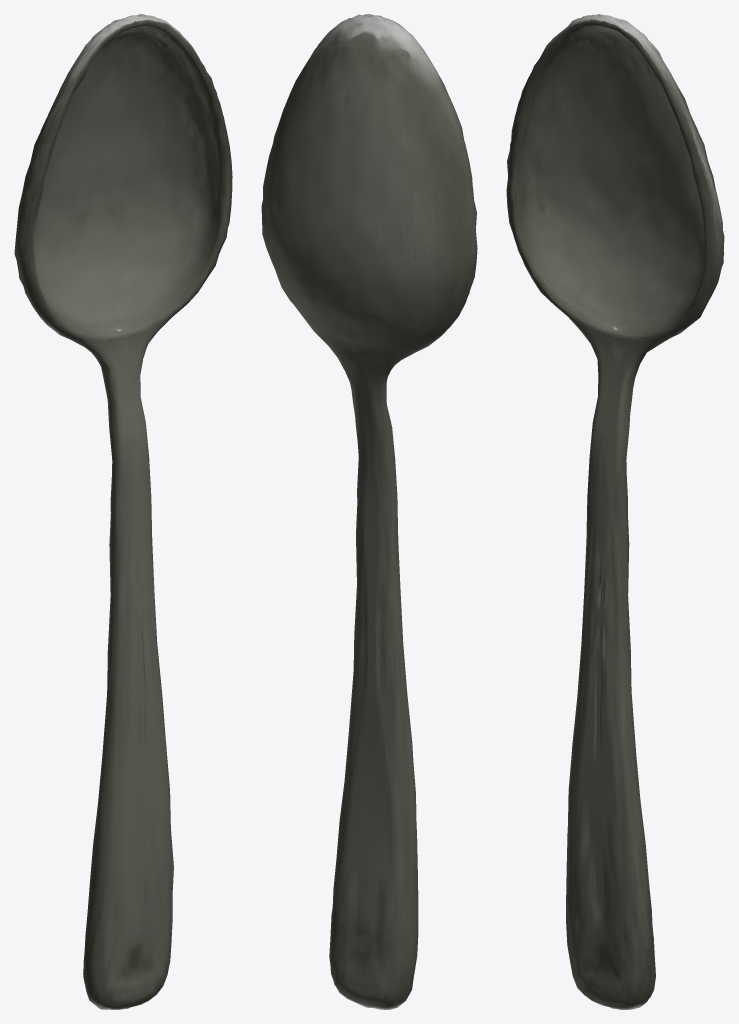
Rendered from Stainless_Steel_Tea_Spoon_0225003128_texture.glb.
3 renders of one model, left to right at view 1: azimuth 30°, elevation 25°; view 2: azimuth 150°, elevation 25°; view 3: azimuth 330°, elevation 25°, orthographic.
Visible parts, largest first — view 1: Mesh_0; view 2: Mesh_0; view 3: Mesh_0.
Boxes of the visible parts, left/top/right/bottom form: Mesh_0: left=14, top=14, right=232, bottom=1009; Mesh_0: left=261, top=14, right=477, bottom=1009; Mesh_0: left=506, top=14, right=724, bottom=1009.
Bounding box in the file's own units: 0.0341 × 0.1524 × 0.0135.
1 material, 1 textured.
